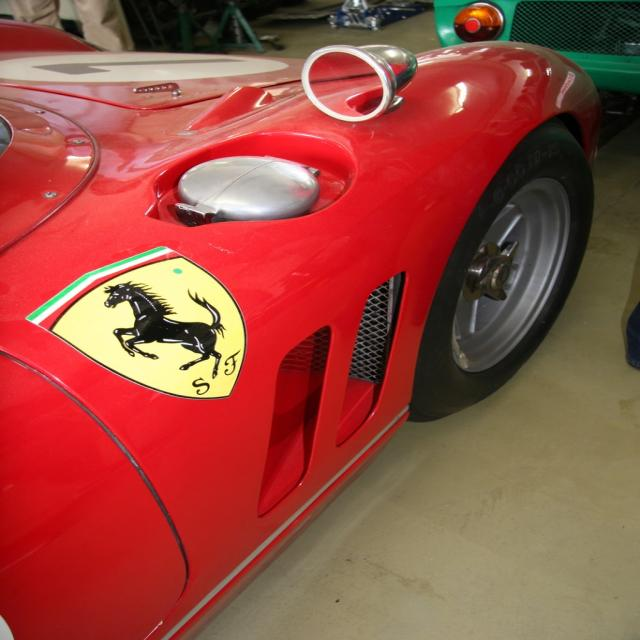ferrari: (25, 246, 249, 401)
